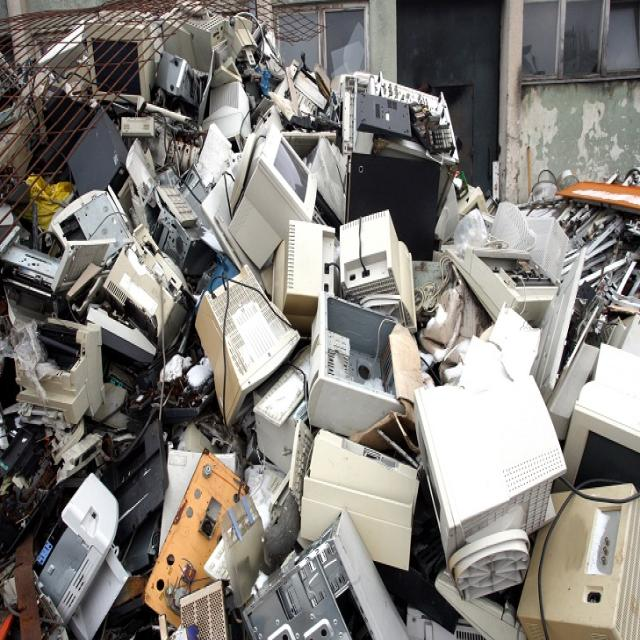Hazard: (21, 97, 640, 640)
